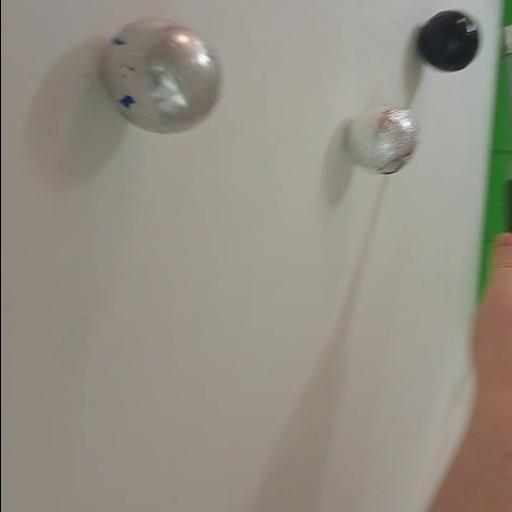alive: (97, 17, 226, 139), (346, 104, 420, 176)
dead: (416, 8, 483, 74)
